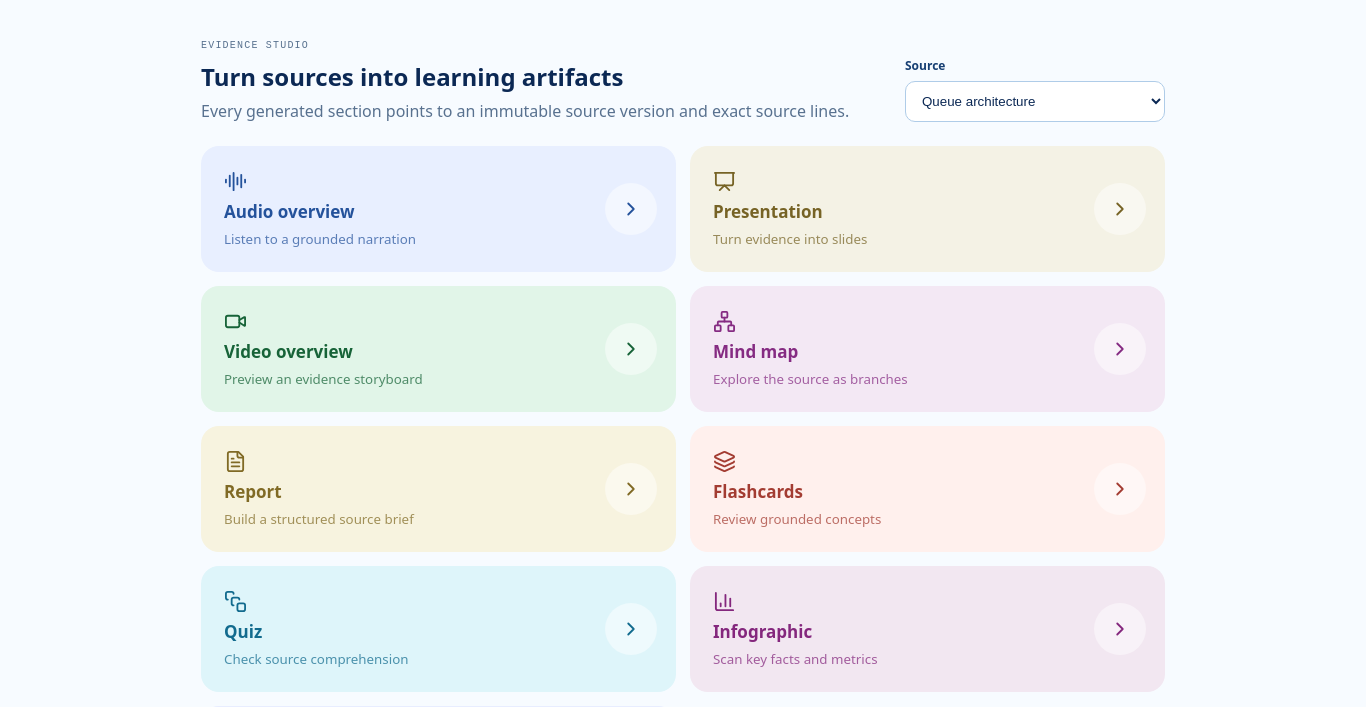
Test: StudioView › creates a selected Studio artifact from the active source
The width and height of the screenshot is (1366, 707).
Click the button with aria-label "Create Report" at (253, 492), box [201,426,676,552]
(page scrolled)
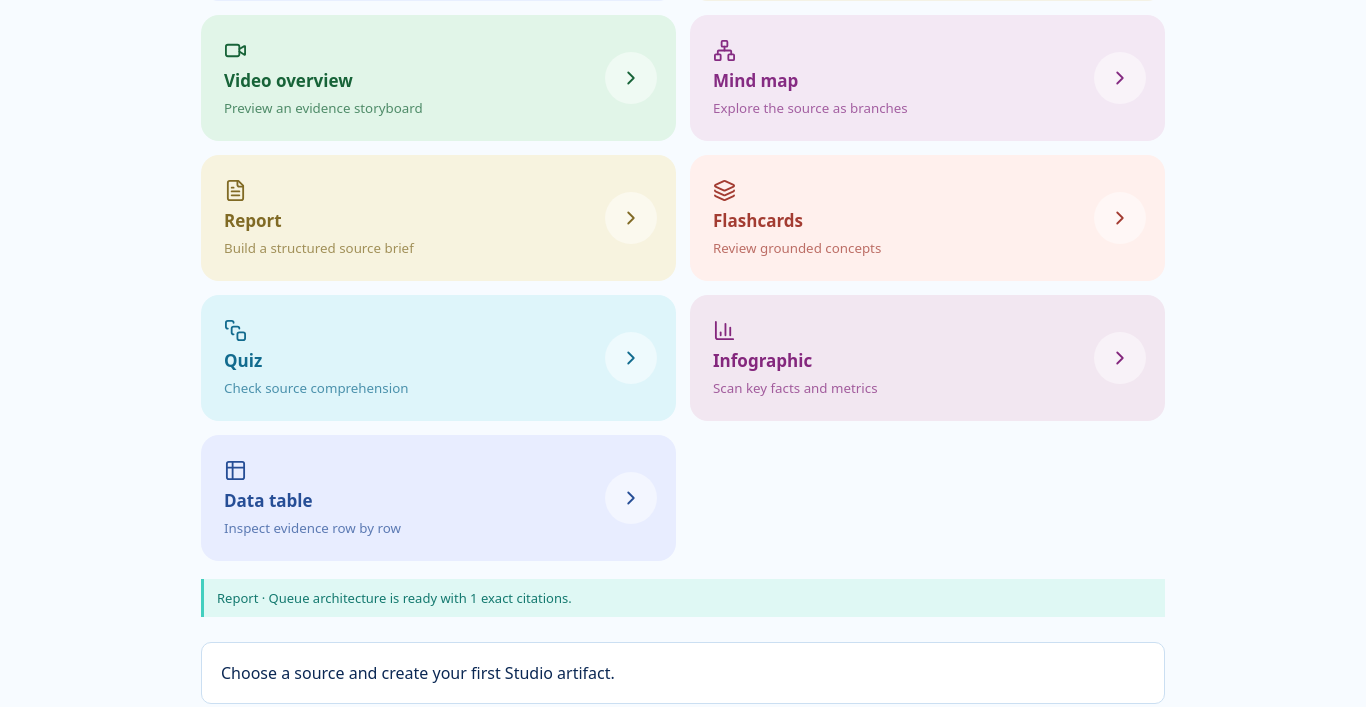
Now the text "Report · Queue architecture is ready with 1 exact citations." is shown, box [201,579,1165,617]
